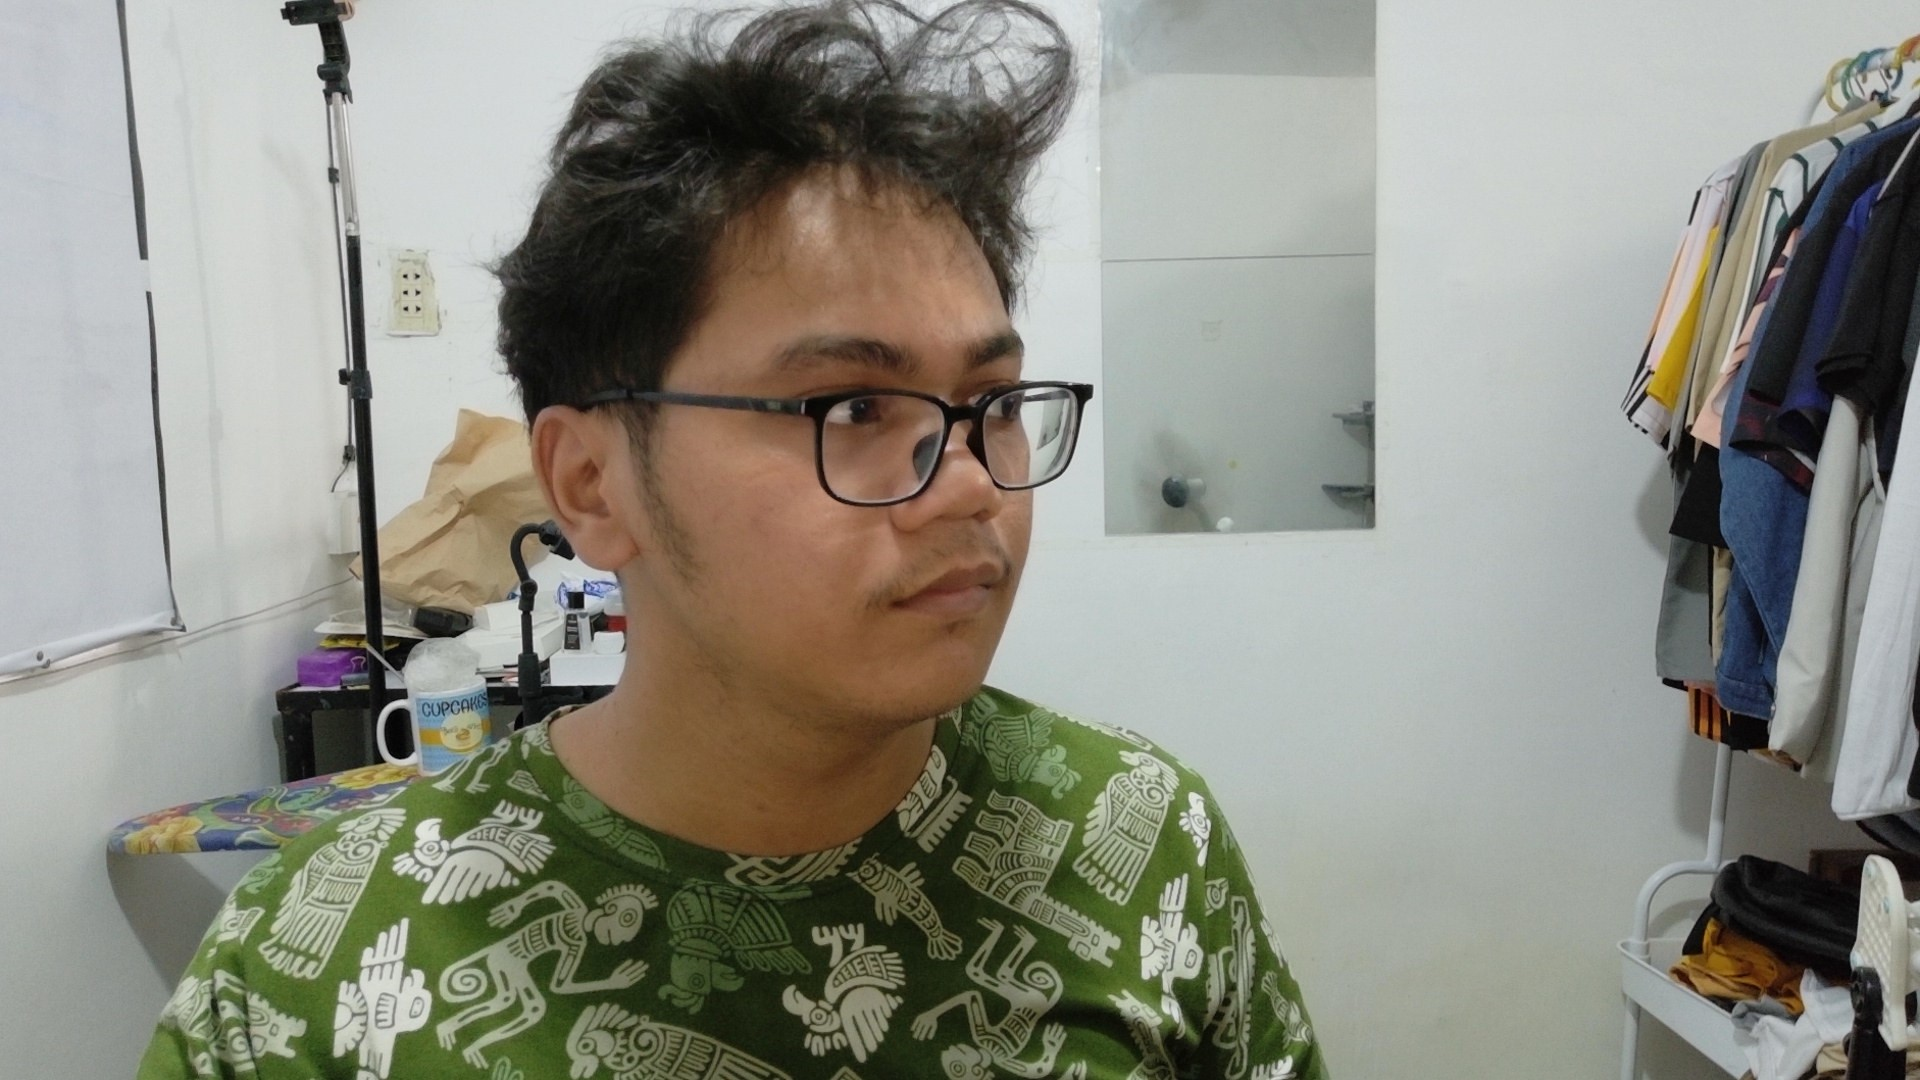face: (426, 10, 1143, 760)
